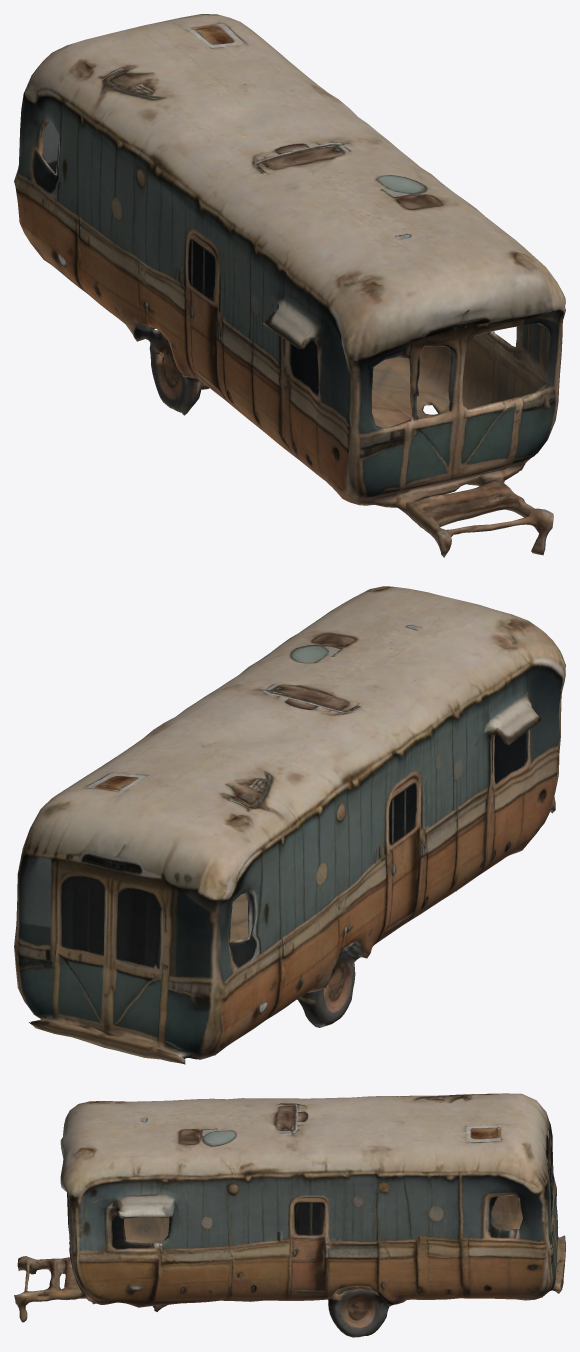
The model's file is Rustic_Trailer.glb.
3 views of the same model, one above another, from view 1: azimuth 30°, elevation 25°; view 2: azimuth 150°, elevation 25°; view 3: azimuth 270°, elevation 25° (orthographic). The views are drawn at different scales.
Size of the model in its own units: 0.7244 by 0.7829 by 2.
Materials: 1 (1 with a texture image).
